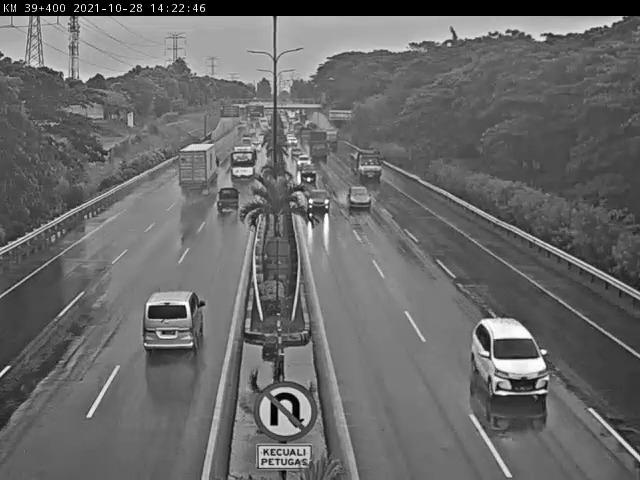big bus: (227, 147, 259, 183)
big truck: (174, 142, 222, 194), (348, 151, 383, 183), (307, 130, 328, 159)
car: (463, 309, 555, 406), (140, 285, 209, 360), (215, 186, 245, 220), (346, 186, 372, 214), (306, 190, 333, 214), (300, 168, 320, 185), (290, 145, 305, 160), (297, 154, 312, 169), (249, 137, 265, 151)
